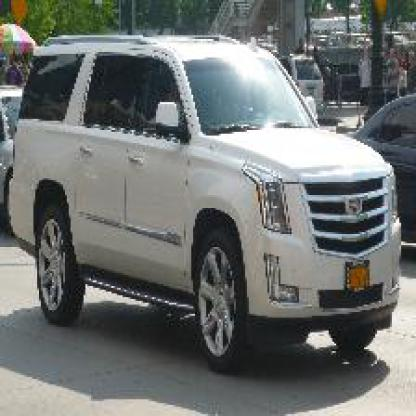not_emergency: (15, 22, 405, 372)
